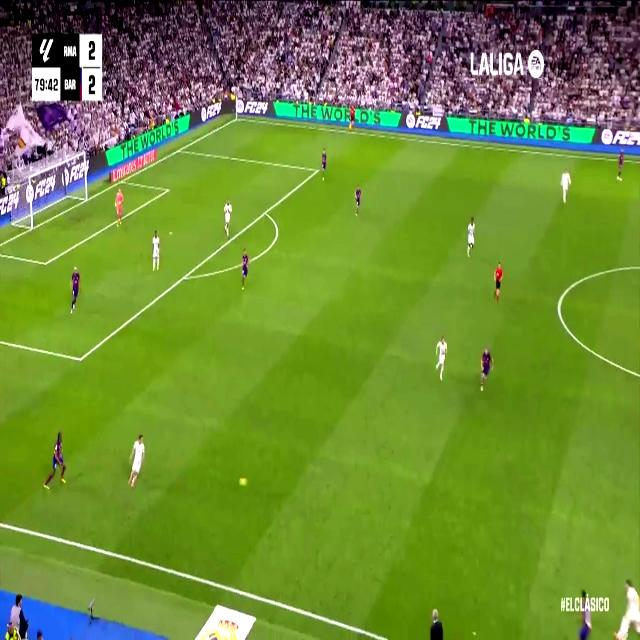bigarea_bottom_inner: (75, 346, 85, 369)
bigarea_top_inner: (314, 164, 319, 176)
bigarea_top_outter: (175, 142, 183, 155)
bottom_arc_area_intersection: (180, 267, 190, 286)
corner: (233, 114, 240, 122)
smallarea_bottom_inner: (41, 253, 50, 272)
smallarea_top_inner: (164, 184, 170, 194)
smallarea_top_outter: (120, 175, 126, 186)
top_arc_area_intersection: (262, 204, 268, 218)
